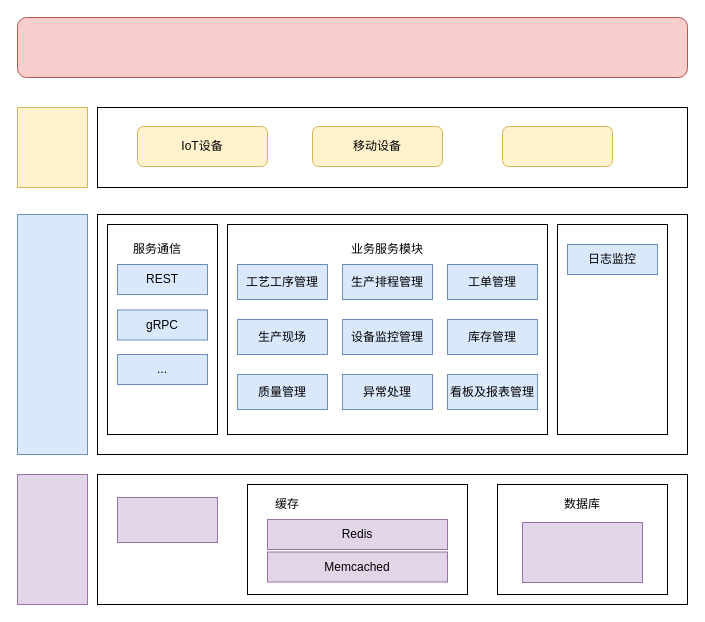
Some shapes in this 705 by 622 pixel diagram are drawn without their labels. The centre of each missing label's shape, as x and y in pixels:
"MES业务架构图" goes at (352,47).
"Mysql" goes at (582,552).
"PC" goes at (557,146).
"存储层" goes at (52,539).
"文件存储" goes at (167,519).
"服务层" goes at (52,334).
"访问层" goes at (52,147).
